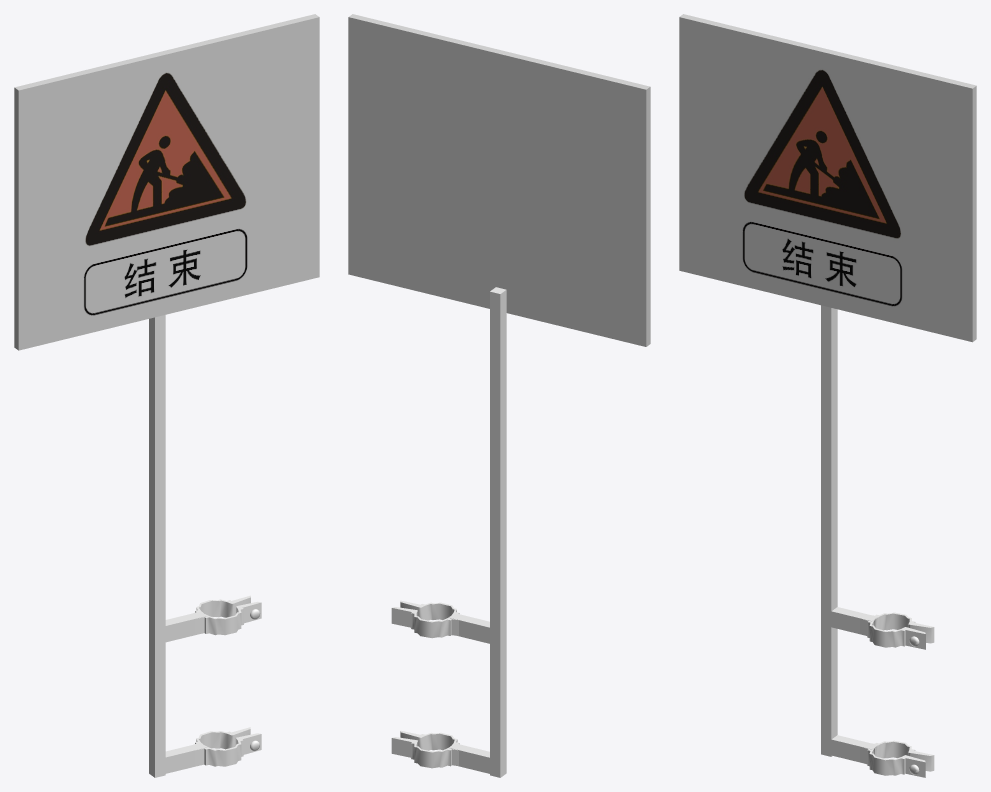
3 views of the same model, side by side, from view 1: azimuth 30°, elevation 25°; view 2: azimuth 150°, elevation 25°; view 3: azimuth 330°, elevation 25° (orthographic). The views are drawn at different scales.
Parts seen in each view (by area): view 1: 立方体.1-材质.4, 立方体, 立方体.1-材质.2, pCube31, pCube20, 立方体.1, 立方体.2; view 2: 立方体.1-材质.2, 立方体, pCube20, pCube31, 立方体.2, 立方体.1; view 3: 立方体.1-材质.4, 立方体, 立方体.1-材质.2, pCube31, pCube20, 立方体.2, 立方体.1.
Boxes of the visible parts, x1,y1,x2,y2 form: 立方体.1-材质.4: [18, 17, 319, 350]; 立方体: [149, 315, 165, 777]; 立方体.1-材质.2: [14, 14, 318, 350]; pCube31: [194, 595, 261, 635]; pCube20: [194, 727, 261, 766]; 立方体.1: [165, 611, 206, 642]; 立方体.2: [165, 743, 206, 773]; 立方体.1-材质.2: [348, 14, 650, 346]; 立方体: [490, 287, 506, 777]; pCube20: [391, 730, 459, 768]; pCube31: [391, 600, 459, 638]; 立方体.2: [449, 743, 491, 774]; 立方体.1: [449, 613, 491, 644]; 立方体.1-材质.4: [679, 17, 972, 342]; 立方体: [821, 305, 837, 756]; 立方体.1-材质.2: [679, 14, 976, 341]; pCube31: [860, 612, 934, 649]; pCube20: [860, 740, 934, 777]; 立方体.2: [831, 735, 877, 762]; 立方体.1: [831, 607, 877, 634].
Bounding box in the file's own units: 7.01 × 16.13 × 0.9508.
Materials: 4 (1 with a texture image).
